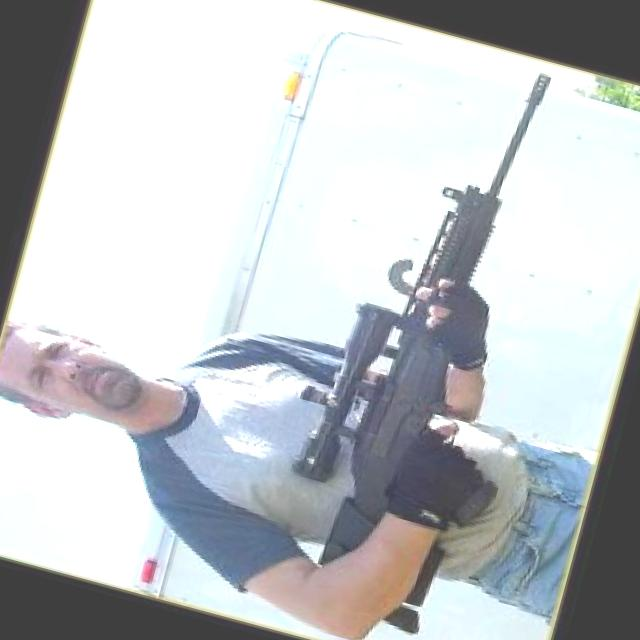long weapon: (241, 26, 606, 639)
